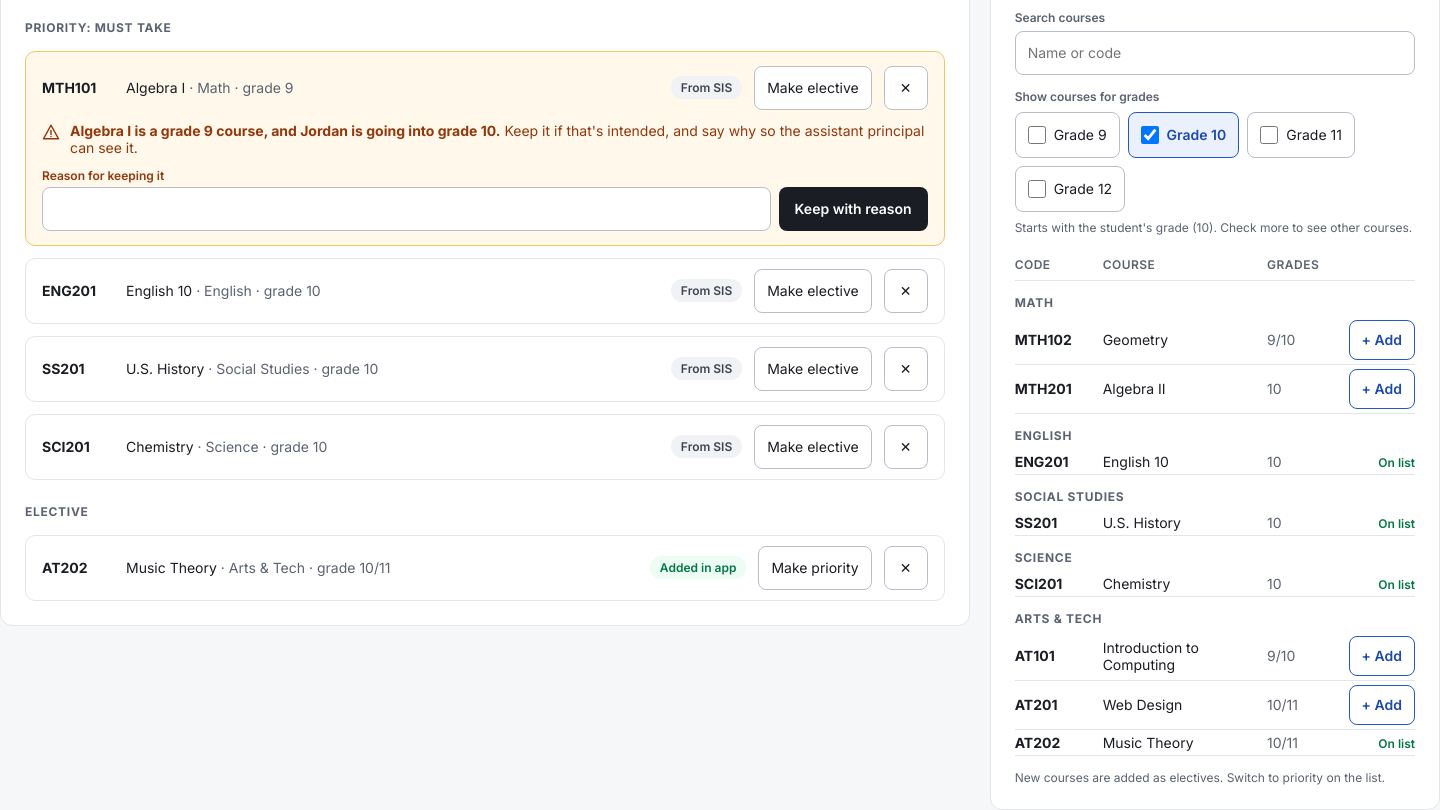
it: + Add adds the course as an elective and shows On list
The width and height of the screenshot is (1440, 810).
(page scrolled)
Step 1. Click the button with aria-label "Add AT201 Web Design" → x=1382, y=705, box [1349,685,1415,725]
(page scrolled)
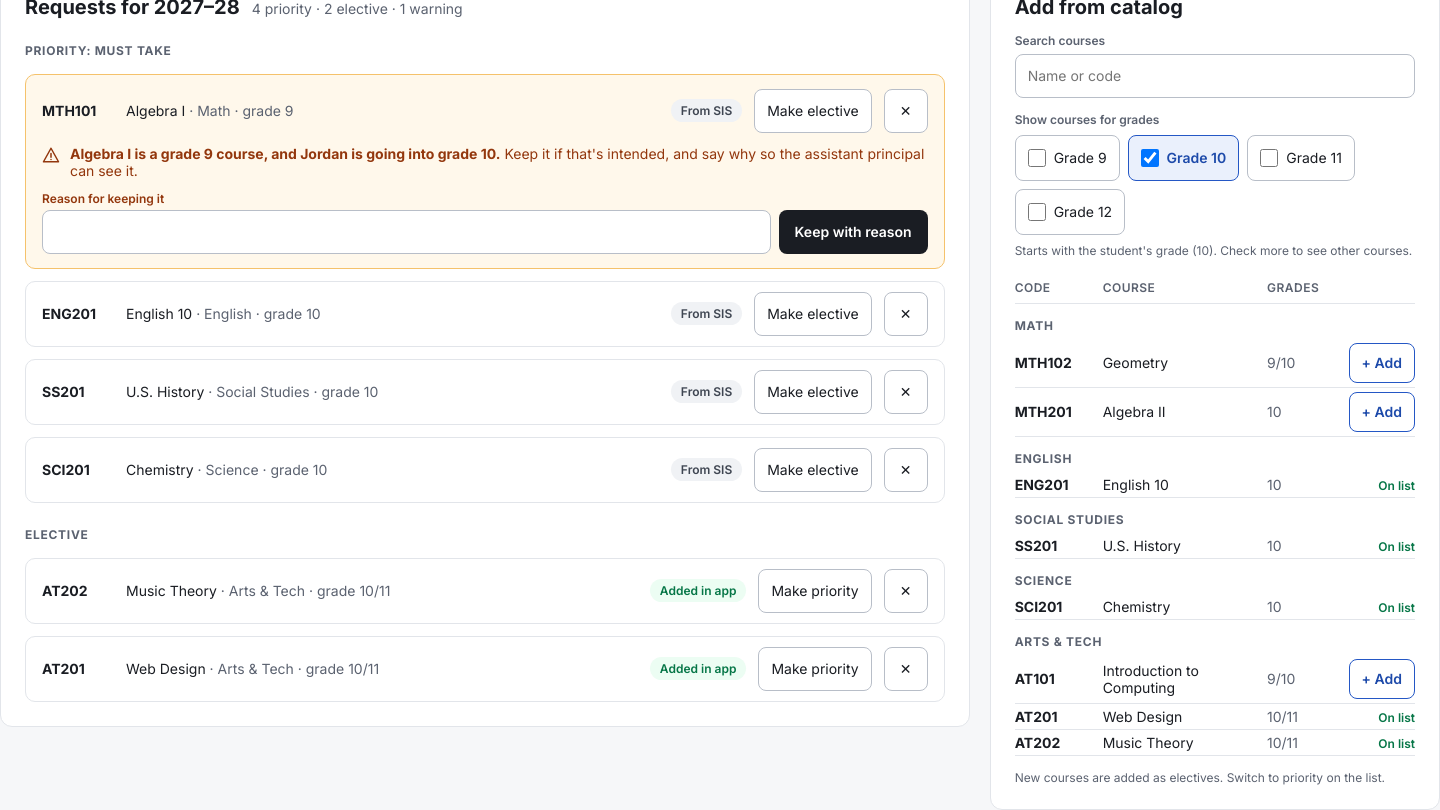
Expected: the list item with test id "request-AT201" shows "Added in app", [660,661,736,676]
Expected: the text "AT201" shows "On list", [1378,710,1415,725]
